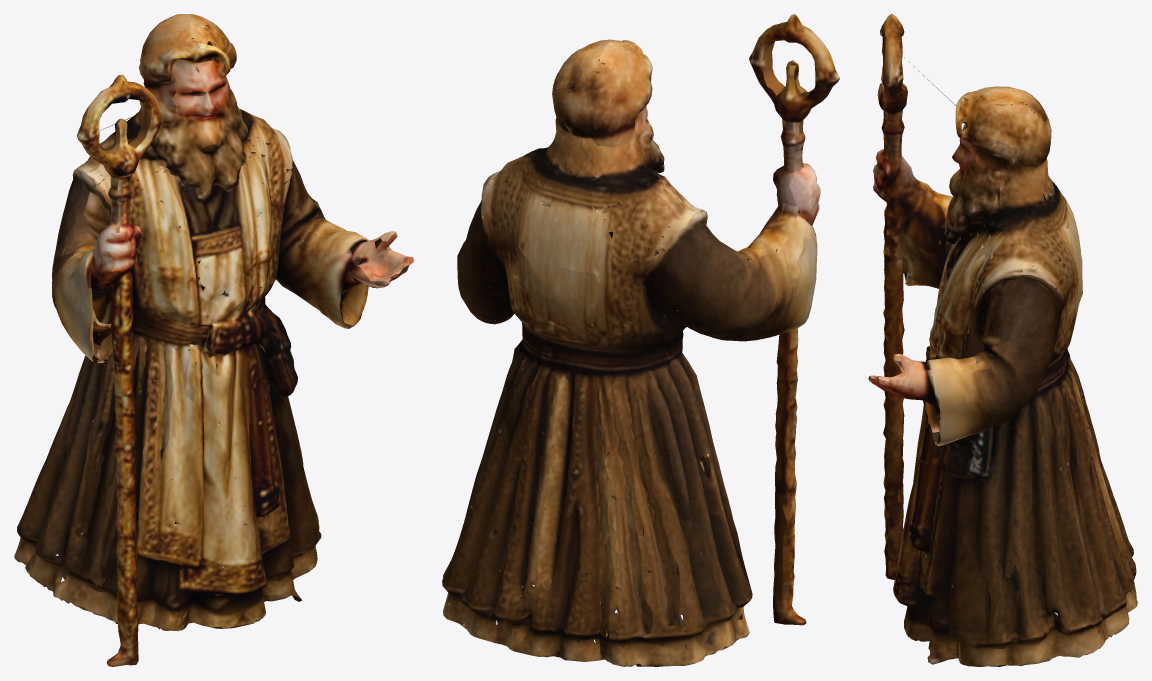
Rendered from cleric.glb.
The picture shows the model from 3 angles, left to right: view 1: azimuth 30°, elevation 25°; view 2: azimuth 150°, elevation 25°; view 3: azimuth 270°, elevation 25°; orthographic projection. The views are drawn at different scales.
Parts seen in each view (by area): view 1: tmptka_gat9.ply; view 2: tmptka_gat9.ply; view 3: tmptka_gat9.ply.
Boxes of the visible parts, bbox=[...] form: tmptka_gat9.ply: bbox=[14, 14, 413, 666]; tmptka_gat9.ply: bbox=[442, 14, 839, 666]; tmptka_gat9.ply: bbox=[868, 14, 1137, 666].
Size of the model in its own units: 1.14 by 1.96 by 0.8554.
1 material, 1 textured.
